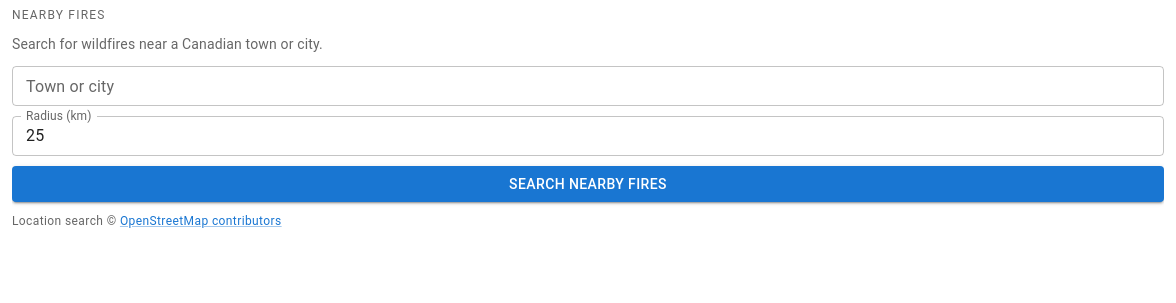
Test case: NearbyWildfireSearch › shows a not-found message when the geocoder finds no match, without searching wildfires
The image size is (1176, 303).
Type "Nowhereville" into the field labelled "Town or city". click: (588, 86)
box: left=12, top=66, right=1164, bottom=106
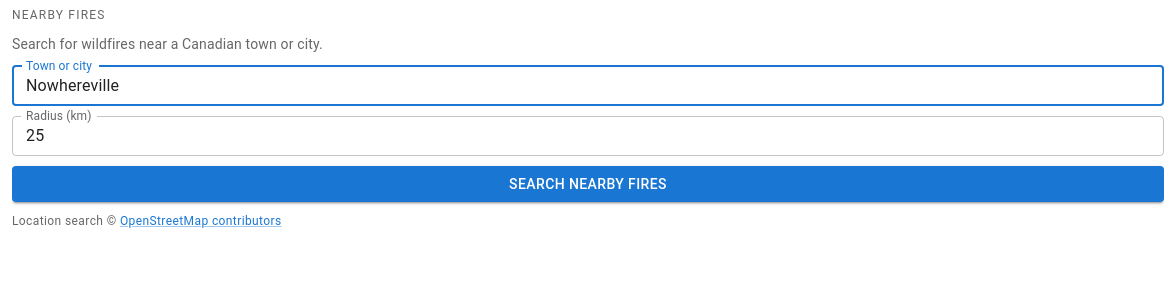
Click the button "Search nearby fires". click: (588, 184)
box: left=12, top=166, right=1164, bottom=202
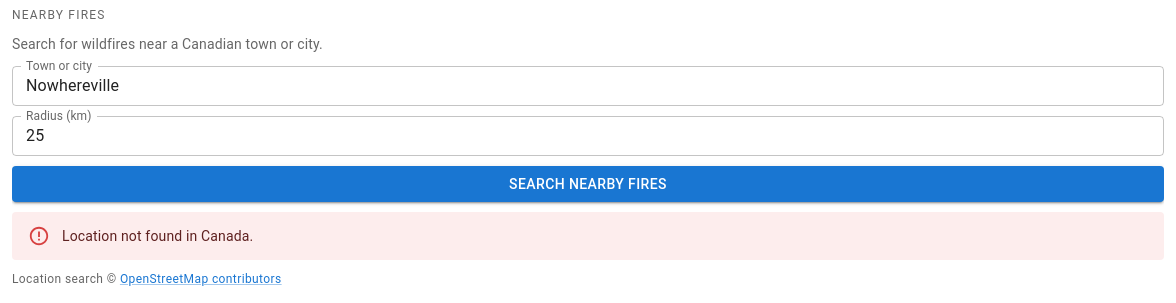
Expected: the text "Location not found in Canada." is shown, left=62, top=228, right=253, bottom=244
